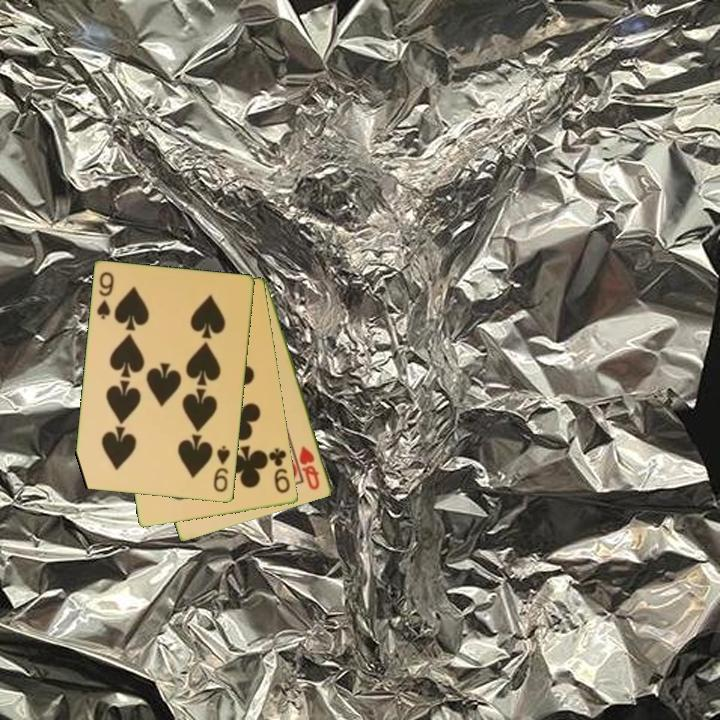9c: (265, 445, 293, 496)
9s: (93, 268, 117, 322), (210, 443, 233, 495)
Qh: (296, 442, 323, 493)
